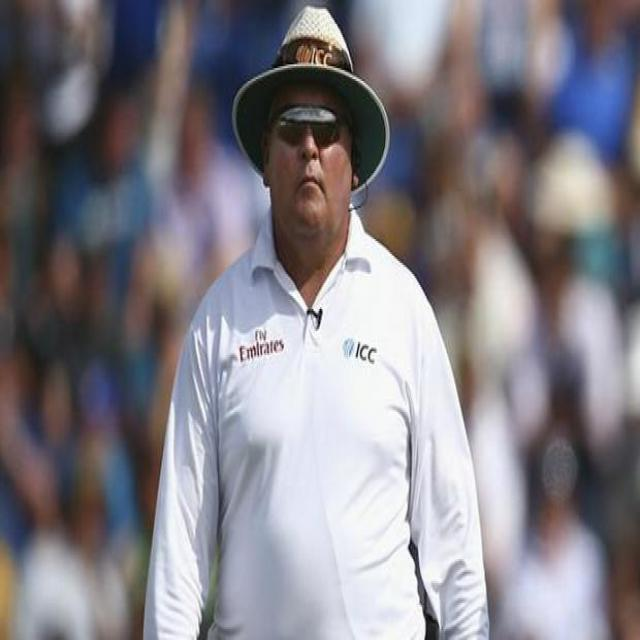No_Action: (133, 0, 505, 640)
